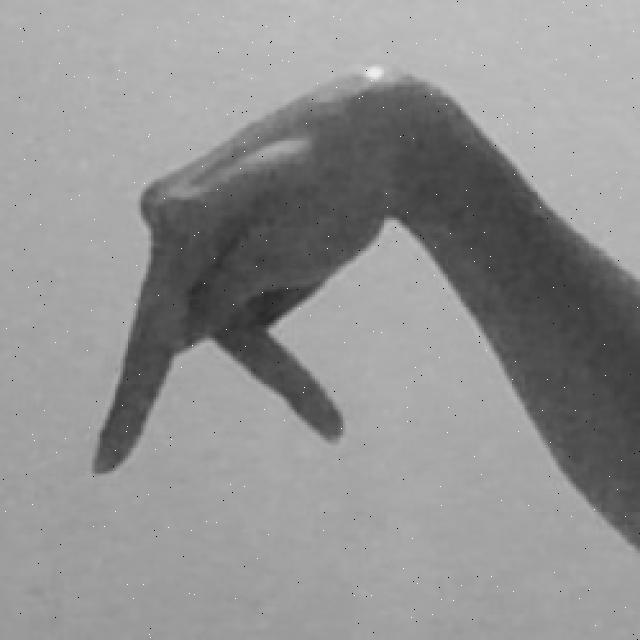P: (86, 61, 640, 574)
